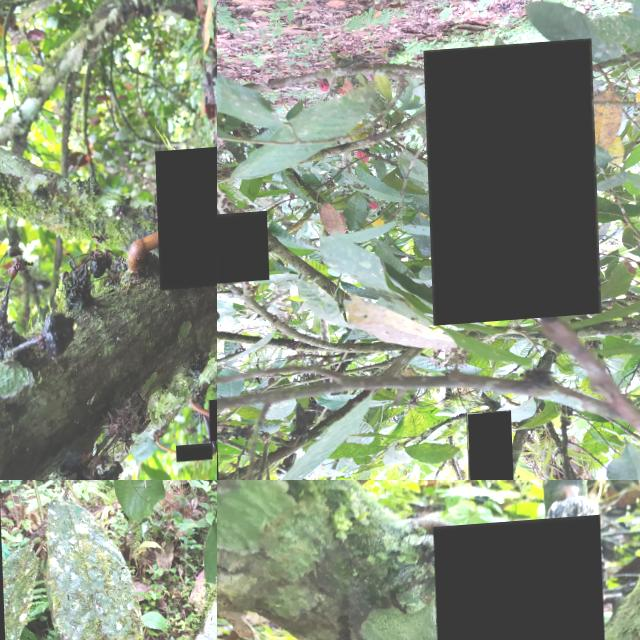Fitoftora: (432, 522, 606, 640), (462, 415, 508, 480)
Monilia: (422, 44, 598, 329), (152, 145, 217, 293)
Sana: (217, 211, 266, 283), (172, 448, 208, 466), (205, 401, 217, 445)
